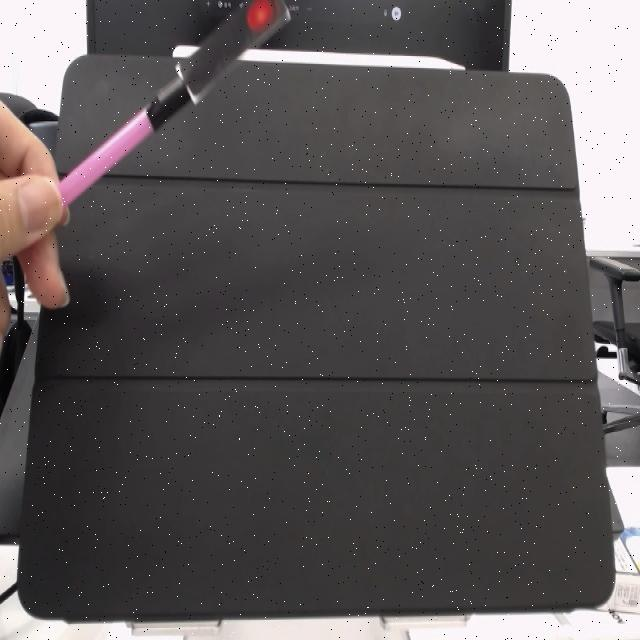traffic light: (173, 0, 298, 101)
